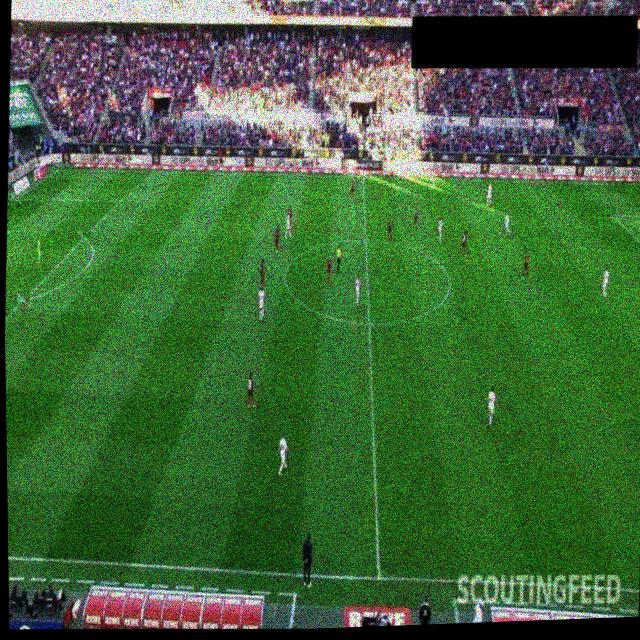bigarea_top_inner: (602, 208, 623, 222), (114, 193, 126, 205)
bigarea_top_outter: (9, 193, 21, 206)
bottom_arc_area_intersection: (16, 293, 31, 308)
corner: (53, 163, 65, 176)
halfcircle_bottom: (361, 315, 375, 330)
halfcircle_top: (360, 233, 371, 245)
midline_bottom_intersection: (371, 569, 386, 587)
midline_top_intersection: (357, 171, 368, 182)
smallarea_top_inner: (6, 225, 14, 236)
top_arc_area_intersection: (78, 230, 90, 242)
